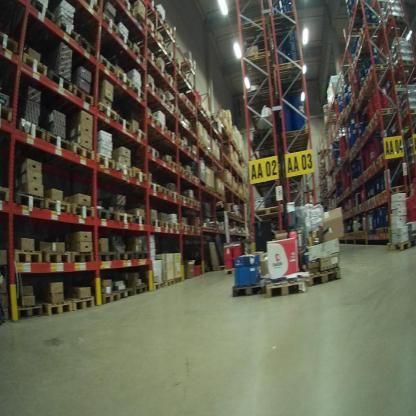pallet: (266, 273, 309, 306), (37, 291, 71, 325), (241, 44, 273, 80), (12, 113, 48, 145), (306, 262, 344, 292), (45, 193, 76, 226), (242, 63, 280, 89), (275, 56, 304, 90), (11, 298, 45, 327), (278, 121, 311, 150), (19, 49, 50, 79), (233, 278, 267, 305), (356, 17, 388, 45), (13, 188, 48, 212), (47, 64, 74, 95), (64, 289, 96, 315), (12, 240, 42, 267), (364, 115, 400, 137), (249, 130, 278, 157), (354, 35, 384, 61), (244, 88, 281, 109), (45, 130, 72, 158), (55, 18, 81, 46), (252, 200, 289, 219), (70, 81, 96, 108), (365, 58, 393, 82), (1, 26, 23, 56), (28, 3, 58, 25), (374, 103, 400, 127), (72, 136, 96, 162), (147, 18, 177, 38), (95, 283, 121, 306), (350, 2, 373, 26), (73, 247, 97, 269), (147, 3, 171, 25), (41, 249, 72, 266), (381, 182, 406, 203), (71, 203, 97, 223), (385, 234, 415, 251), (254, 120, 278, 141), (100, 57, 121, 81), (357, 78, 386, 95), (95, 149, 117, 171), (96, 103, 118, 125), (97, 15, 121, 35), (393, 55, 416, 75), (79, 35, 99, 57), (74, 2, 104, 16), (117, 66, 132, 93), (2, 99, 17, 125), (113, 158, 133, 177), (129, 163, 148, 183), (400, 100, 416, 123), (98, 249, 118, 267), (116, 110, 134, 130), (133, 79, 148, 103), (143, 78, 160, 99), (133, 247, 154, 263), (115, 281, 134, 298), (134, 14, 149, 35), (119, 29, 133, 51), (161, 157, 180, 173), (132, 280, 150, 296), (118, 248, 134, 266), (148, 210, 164, 228), (143, 46, 158, 65), (386, 11, 406, 25), (96, 211, 119, 223), (132, 44, 144, 67), (120, 207, 134, 226), (1, 183, 13, 205), (131, 127, 149, 141), (176, 80, 197, 92), (134, 211, 148, 228), (174, 192, 190, 206), (166, 70, 177, 90), (147, 145, 161, 160), (149, 115, 163, 130), (359, 126, 368, 149), (154, 59, 166, 76), (158, 88, 170, 105), (148, 181, 163, 194), (181, 116, 193, 132), (379, 148, 389, 167), (170, 184, 180, 203), (159, 272, 173, 285), (222, 265, 234, 280), (149, 280, 165, 291), (170, 94, 177, 119), (160, 182, 172, 196), (160, 62, 181, 70), (159, 51, 173, 63), (347, 88, 354, 111), (372, 192, 382, 207), (161, 121, 171, 135), (381, 223, 390, 238), (162, 218, 174, 229), (172, 219, 182, 232), (373, 152, 380, 170), (216, 260, 225, 273), (366, 160, 373, 176), (186, 195, 194, 209), (170, 131, 179, 143), (170, 276, 183, 284), (176, 73, 187, 82), (195, 198, 202, 212), (182, 146, 191, 155), (193, 221, 201, 231), (376, 225, 383, 236), (184, 164, 188, 177)
small_load_carrier: (406, 193, 415, 220), (223, 255, 234, 270), (233, 243, 244, 258), (194, 261, 204, 277), (224, 245, 235, 257)
